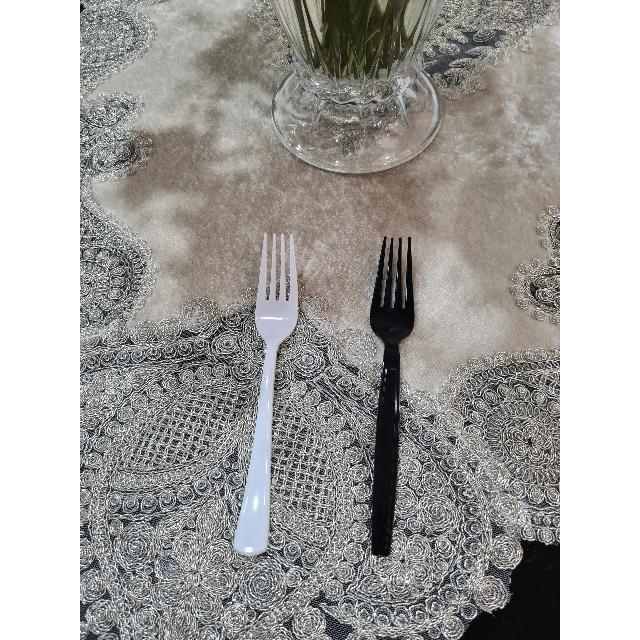Plastico descartable: (234, 234, 298, 556), (370, 236, 415, 556)
